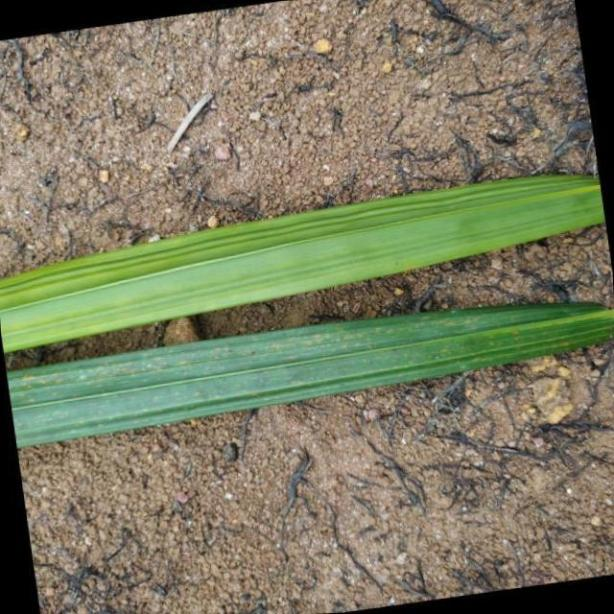nitrogen: (0, 169, 614, 451)
